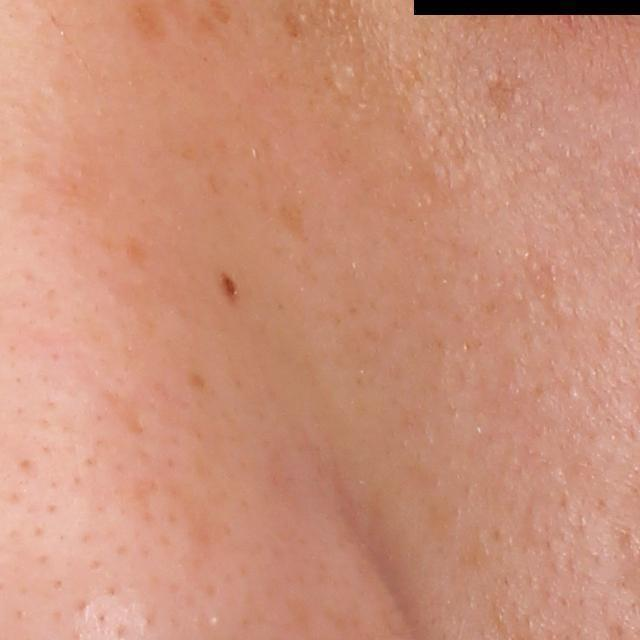melasma: (480, 61, 530, 123), (269, 199, 315, 248), (118, 235, 153, 268), (279, 13, 304, 40), (185, 368, 210, 395)
nevus: (218, 266, 241, 308)
